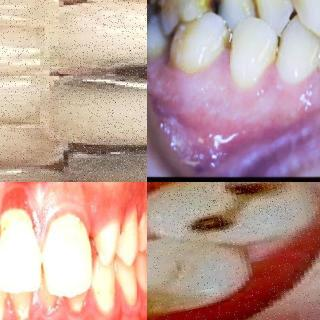Gum Swelling: (0, 182, 129, 253), (180, 50, 248, 109), (247, 63, 294, 103), (295, 69, 320, 108)
cavities: (185, 182, 285, 245), (83, 40, 147, 100), (71, 131, 147, 175), (0, 219, 10, 251), (214, 0, 231, 16)
maligned: (231, 10, 271, 85), (249, 0, 285, 26), (213, 0, 245, 24)
plaque: (37, 284, 59, 320), (68, 287, 88, 320), (10, 294, 32, 320)
stains: (172, 25, 234, 67), (244, 0, 268, 22)
